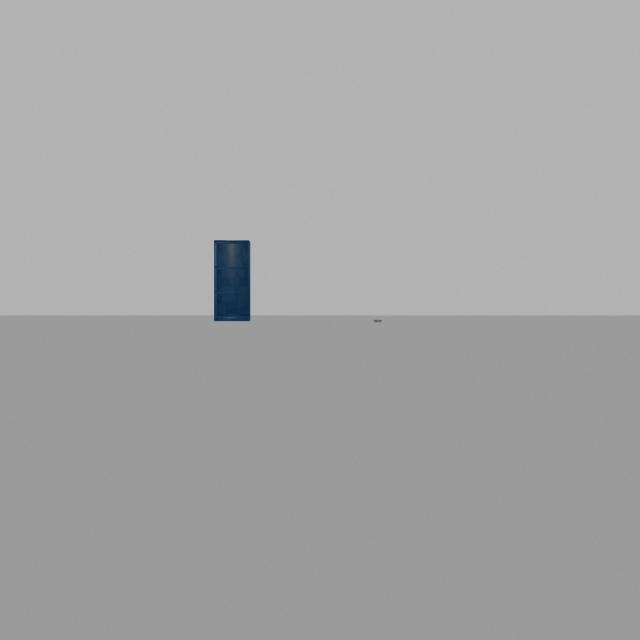bowl: (369, 308, 387, 330)
shelf: (207, 229, 262, 334)
